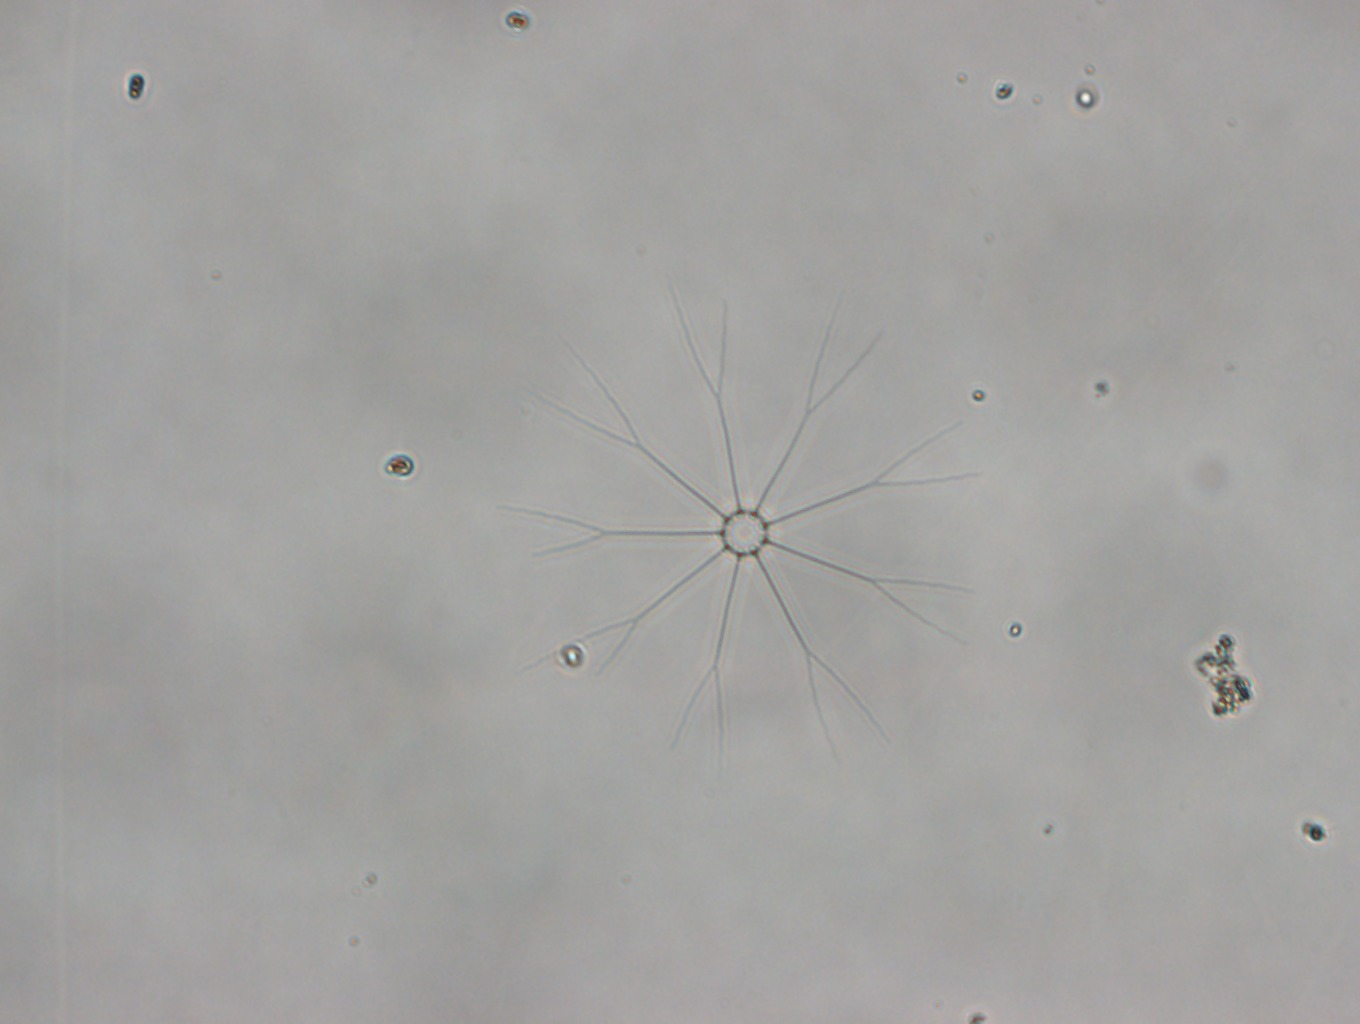bacteriastrum: (498, 284, 978, 778)
